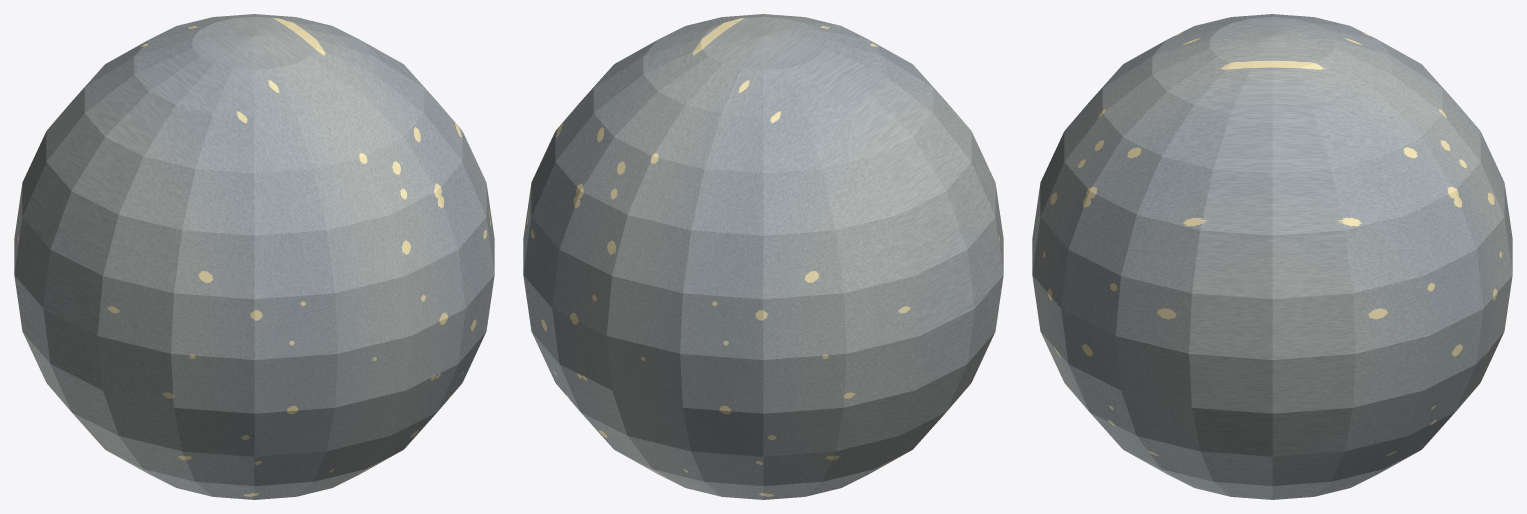
Rendered from luna.obj.
The picture shows the model from 3 angles, left to right: view 1: azimuth 30°, elevation 25°; view 2: azimuth 150°, elevation 25°; view 3: azimuth 270°, elevation 25°; orthographic projection.
Visible parts, largest first — view 1: luna; view 2: luna; view 3: luna.
Part boxes in pixels (x1,y1,x2,y2): luna: [14, 14, 494, 499]; luna: [523, 14, 1003, 499]; luna: [1032, 14, 1512, 499].
Bounding box in the file's own units: 1.5 × 1.5 × 1.48.
Materials: 1 (1 with a texture image).
